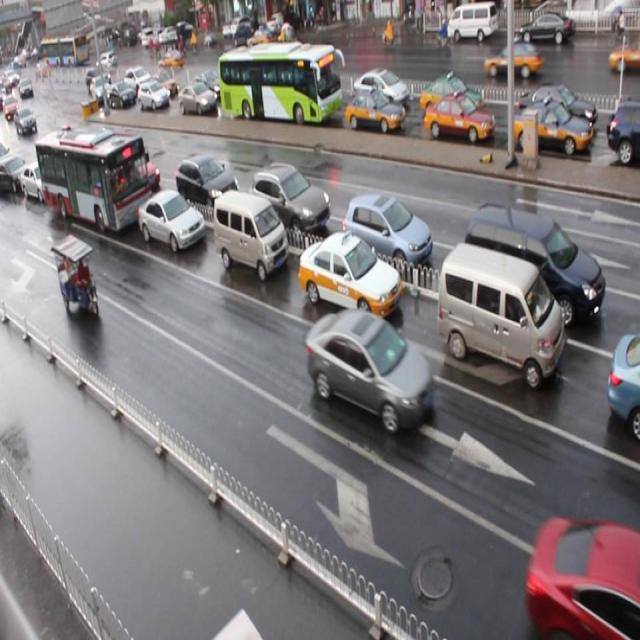BigCar: (38, 114, 154, 239), (219, 45, 340, 145)
car: (295, 301, 430, 450), (458, 187, 601, 314), (440, 245, 560, 392), (298, 233, 396, 332), (348, 188, 443, 286), (210, 171, 285, 276), (415, 91, 502, 159)
